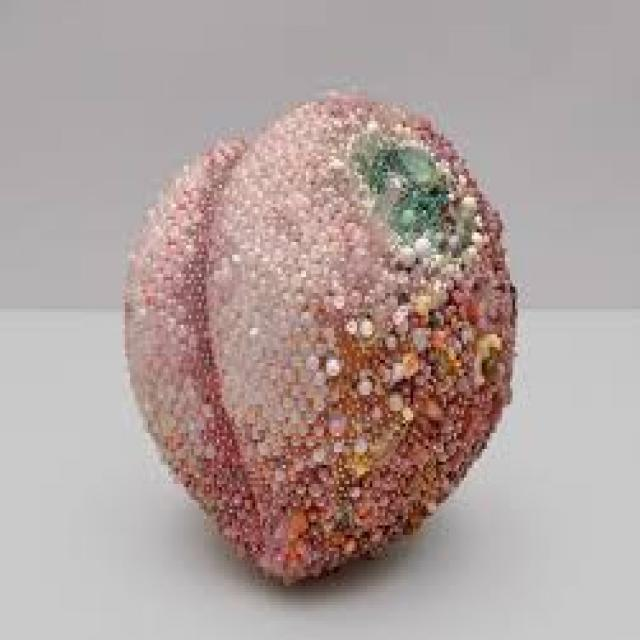organic waste: (122, 86, 518, 583)
